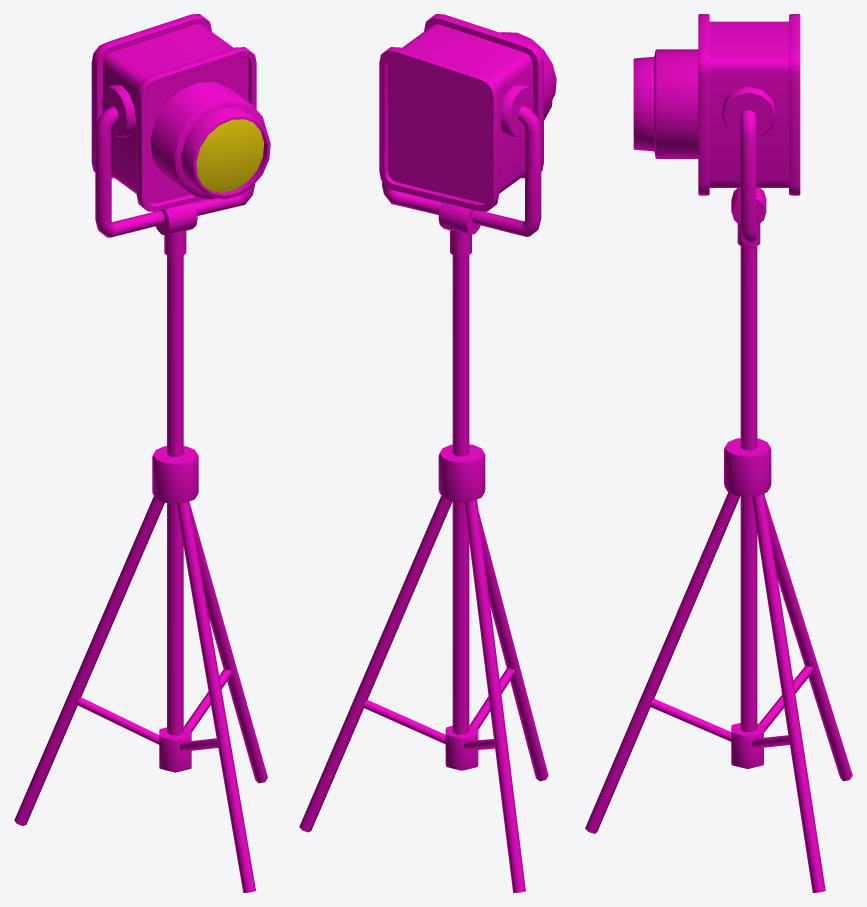
File: Lumiere_Metal_02.FBX
The picture shows the model from 3 angles, left to right: view 1: azimuth 30°, elevation 25°; view 2: azimuth 150°, elevation 25°; view 3: azimuth 270°, elevation 25°; orthographic projection.
Parts seen in each view (by area): view 1: Lumiere_Metal_02_LOD0; view 2: Lumiere_Metal_02_LOD0; view 3: Lumiere_Metal_02_LOD0.
Part boxes in pixels (box(x1,y1,x2,y2)): Lumiere_Metal_02_LOD0: box(14, 14, 270, 892); Lumiere_Metal_02_LOD0: box(299, 14, 556, 892); Lumiere_Metal_02_LOD0: box(585, 14, 852, 892).
Size of the model in its own units: 59.24 by 189 by 57.12.
